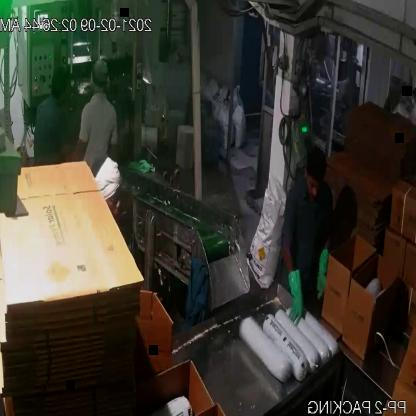glove: (281, 260, 306, 327), (313, 238, 335, 306)
